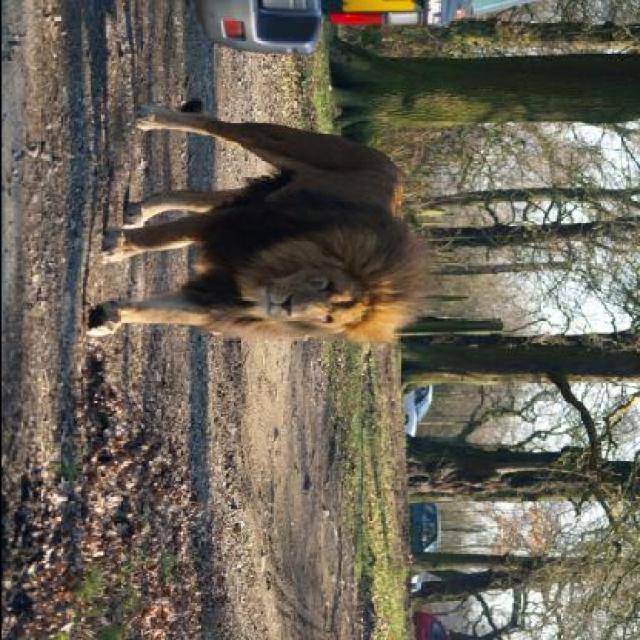Lion: (40, 90, 429, 352)
